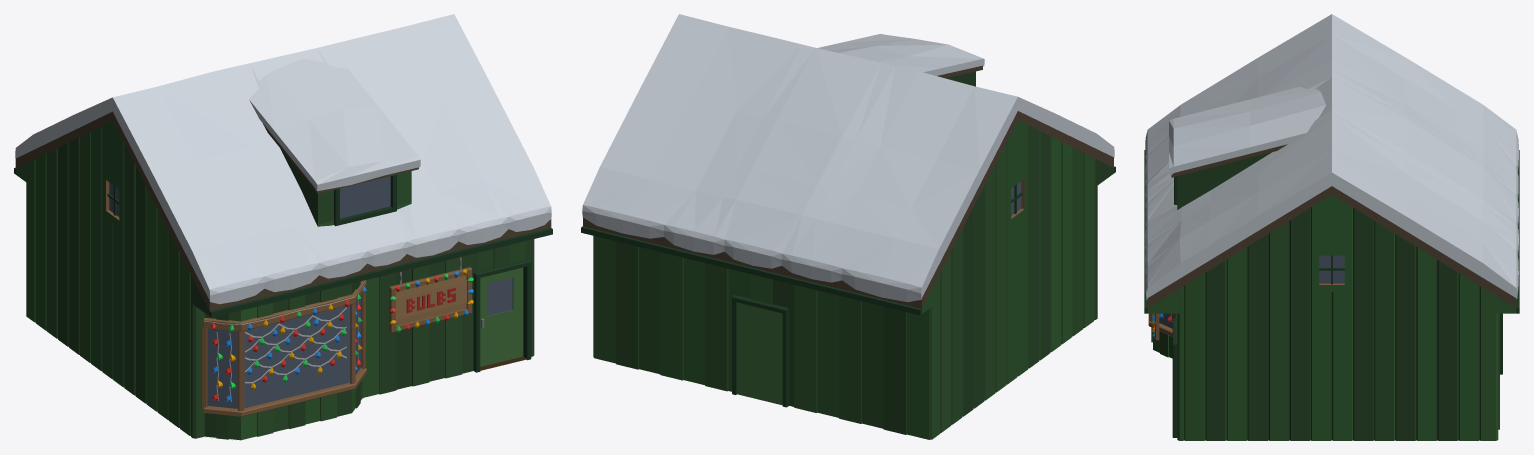
File: christmas-lights-shop-62612d.glb
3 renders of one model, left to right at view 1: azimuth 30°, elevation 25°; view 2: azimuth 150°, elevation 25°; view 3: azimuth 270°, elevation 25°, orthographic. The views are drawn at different scales.
Parts seen in each view (by area): view 1: shop, sign, door; view 2: shop; view 3: shop.
Boxes of the visible parts, bbox=[...] form: shop: bbox=[14, 14, 552, 440]; sign: bbox=[389, 257, 473, 332]; door: bbox=[480, 267, 523, 366]; shop: bbox=[581, 14, 1115, 439]; shop: bbox=[1144, 14, 1519, 440].
Bounding box in the file's own units: 8 × 6.35 × 8.
